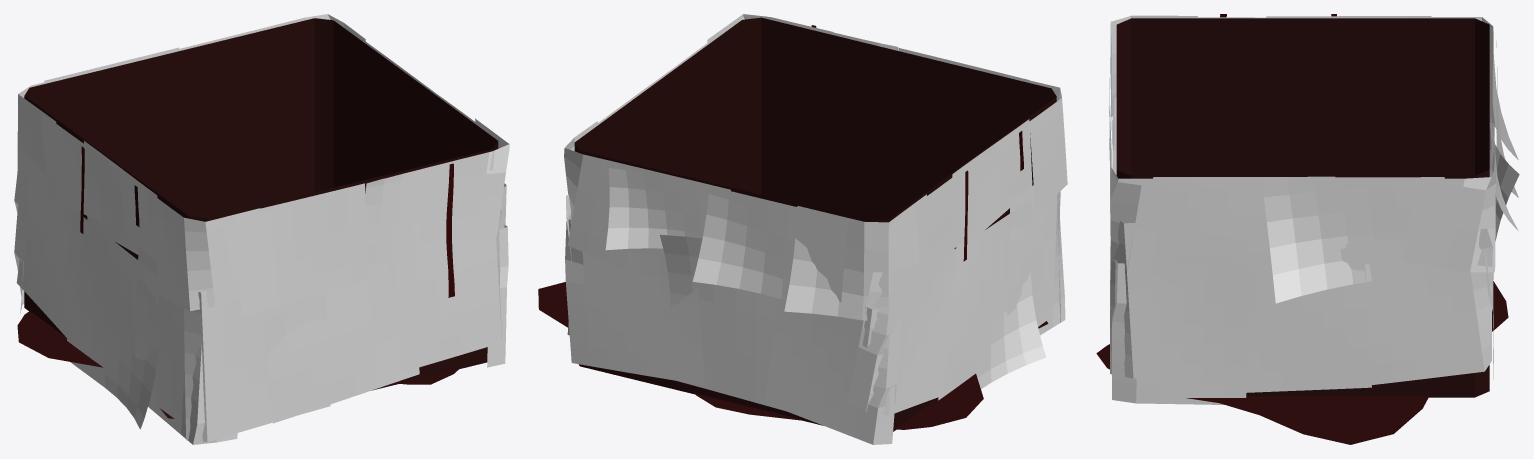
File: ps_block@1.glb
The picture shows the model from 3 angles, left to right: view 1: azimuth 30°, elevation 25°; view 2: azimuth 150°, elevation 25°; view 3: azimuth 270°, elevation 25°; orthographic projection. The views are drawn at different scales.
Parts seen in each view (by area): view 1: teil1, teil0, teil2, teil3; view 2: teil1, teil0, teil2; view 3: teil1, teil0, teil2.
Boxes of the visible parts, x1,y1,x2,y2 form: teil1: (14,14,509,444); teil0: (24,18,498,390); teil2: (17,185,459,418); teil3: (80,146,454,297); teil1: (564,14,1067,444); teil0: (574,17,1056,431); teil2: (538,131,1048,429); teil1: (1108,15,1519,404); teil0: (1116,18,1489,397); teil2: (1096,14,1508,444).
Bounding box in the file's own units: 1.3 × 0.64 × 1.02.
